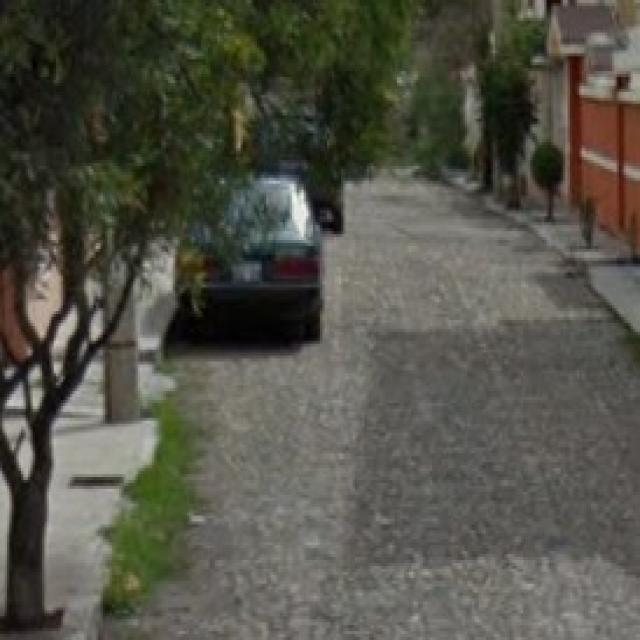cars: (166, 168, 324, 339)
